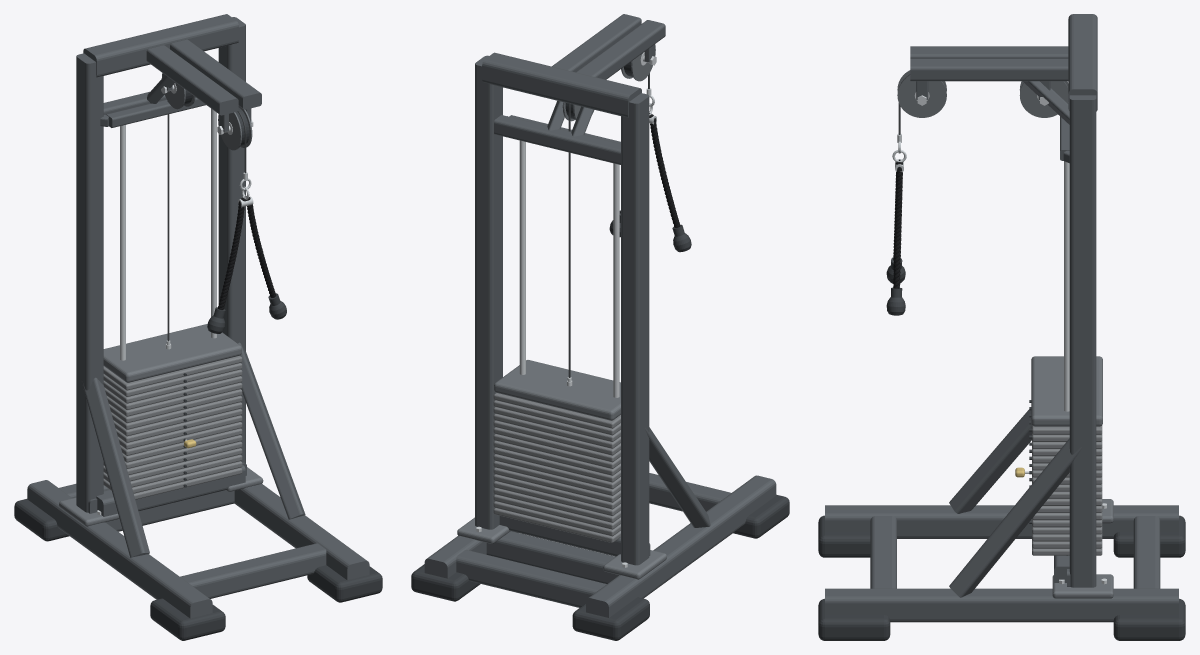
File: triceps_pushdown.glb
3 renders of one model, left to right at view 1: azimuth 30°, elevation 25°; view 2: azimuth 150°, elevation 25°; view 3: azimuth 270°, elevation 25°, orthographic. The views are drawn at different scales.
Parts seen in each view (by area): view 1: Fixed_Frame, Fixed_Rubber, Stack lifting carriage, Fixed_Chrome, Weight_plate_18, Fixed_Arm, Weight_plate_17, Weight_plate_16, Weight_plate_15, Weight_plate_14, Weight_plate_13, Weight_plate_12 (+13 smaller); view 2: Fixed_Frame, Fixed_Rubber, Stack lifting carriage, Fixed_Chrome, Fixed_Arm, Weight_plate_18, Weight_plate_11, Weight_plate_14, Weight_plate_17, Weight_plate_10, Weight_plate_12, Weight_plate_13 (+12 smaller); view 3: Fixed_Frame, Fixed_Rubber, Stack lifting carriage, Fixed_Chrome, Front_high_pulley_Arm, Fixed_Arm, Rear_redirect_pulley_Arm.
Part boxes in pixels (left/top/right/bottom): Fixed_Frame: left=27, top=14, right=369, bottom=618; Fixed_Rubber: left=14, top=499, right=382, bottom=640; Stack lifting carriage: left=103, top=324, right=241, bottom=382; Fixed_Chrome: left=97, top=85, right=253, bottom=514; Weight_plate_18: left=103, top=355, right=242, bottom=390; Fixed_Arm: left=59, top=467, right=263, bottom=526; Weight_plate_17: left=103, top=363, right=242, bottom=396; Weight_plate_16: left=103, top=369, right=242, bottom=403; Weight_plate_15: left=104, top=376, right=242, bottom=409; Weight_plate_14: left=107, top=382, right=242, bottom=416; Weight_plate_13: left=109, top=389, right=242, bottom=423; Weight_plate_12: left=111, top=395, right=242, bottom=429; Fixed_Frame: left=424, top=14, right=776, bottom=617; Fixed_Rubber: left=411, top=494, right=789, bottom=640; Stack lifting carriage: left=494, top=360, right=620, bottom=420; Fixed_Chrome: left=476, top=56, right=656, bottom=567; Fixed_Arm: left=457, top=517, right=666, bottom=579; Weight_plate_18: left=493, top=393, right=620, bottom=428; Weight_plate_11: left=493, top=440, right=620, bottom=475; Weight_plate_14: left=493, top=420, right=620, bottom=455; Weight_plate_17: left=493, top=400, right=620, bottom=435; Weight_plate_10: left=493, top=447, right=620, bottom=482; Weight_plate_12: left=493, top=434, right=620, bottom=468; Weight_plate_13: left=493, top=427, right=620, bottom=462; Fixed_Frame: left=825, top=14, right=1178, bottom=622; Fixed_Rubber: left=818, top=515, right=1185, bottom=640; Stack lifting carriage: left=1031, top=356, right=1102, bottom=426; Fixed_Chrome: left=917, top=95, right=1106, bottom=584; Front_high_pulley_Arm: left=897, top=70, right=946, bottom=117; Fixed_Arm: left=1052, top=499, right=1113, bottom=598; Rear_redirect_pulley_Arm: left=1019, top=81, right=1068, bottom=117.
Bounding box in the file's own units: 0.96 × 2.23 × 1.38.
Materials: 8 (1 with a texture image).
